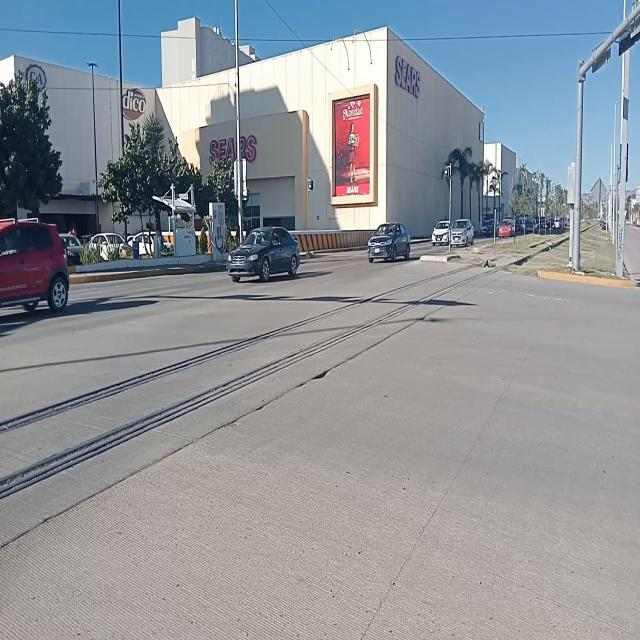Auto: (0, 219, 68, 312), (228, 227, 299, 284), (368, 221, 410, 262), (131, 232, 171, 258), (89, 234, 129, 259), (58, 233, 82, 265), (449, 219, 473, 246), (433, 216, 450, 246), (498, 218, 515, 240), (486, 215, 496, 235)
